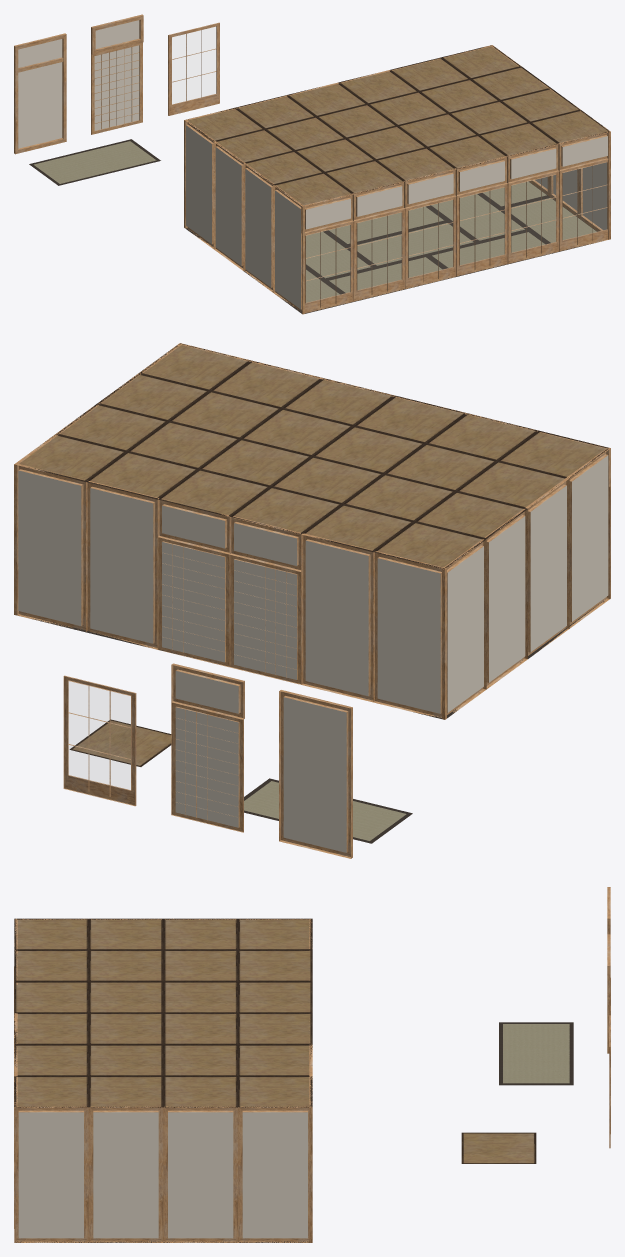
The model's file is Environment.glb.
3 renders of one model, top to bottom at view 1: azimuth 30°, elevation 25°; view 2: azimuth 150°, elevation 25°; view 3: azimuth 270°, elevation 25°, orthographic. The views are drawn at different scales.
Parts seen in each view (by area): view 1: polySurface11 (×24), polySurface2 (×7), polySurface4 (×10), polySurface7 (×7), polySurface10 (×7), polySurface1 (×6), polySurface9 (×7), polySurface6, polySurface3 (×4), polySurface5; view 2: polySurface2 (×9), polySurface11 (×25), polySurface6 (×3), polySurface1 (×10), polySurface10 (×3), polySurface5 (×3), polySurface9 (×3), polySurface7, polySurface4; view 3: polySurface11 (×25), polySurface2 (×4), polySurface1 (×5), polySurface4, polySurface3.
Part boxes in pixels (<box>): polySurface11 (×24): <box>188,46,608,205</box>; polySurface2 (×7): <box>18,39,606,309</box>; polySurface4 (×10): <box>34,141,596,302</box>; polySurface7 (×7): <box>168,22,608,313</box>; polySurface10 (×7): <box>95,20,607,229</box>; polySurface1 (×6): <box>14,33,610,314</box>; polySurface9 (×7): <box>91,14,610,233</box>; polySurface6: <box>94,45,139,130</box>; polySurface3 (×4): <box>29,139,559,301</box>; polySurface5: <box>91,42,142,134</box>; polySurface2 (×9): <box>18,455,608,852</box>; polySurface11 (×25): <box>19,344,606,765</box>; polySurface6 (×3): <box>162,542,296,827</box>; polySurface1 (×10): <box>14,434,610,858</box>; polySurface10 (×3): <box>162,505,296,713</box>; polySurface5 (×3): <box>158,536,301,832</box>; polySurface9 (×3): <box>158,499,303,719</box>; polySurface7: <box>63,675,136,806</box>; polySurface4: <box>244,781,406,840</box>; polySurface11 (×25): <box>16,919,533,1163</box>; polySurface2 (×4): <box>18,1112,307,1238</box>; polySurface1 (×5): <box>15,1076,312,1242</box>; polySurface4: <box>503,1024,569,1083</box>; polySurface3: <box>499,1022,573,1085</box>.
Bounding box in the file's own units: 10.5 × 3 × 12.01.
Materials: 7 (6 with a texture image).
